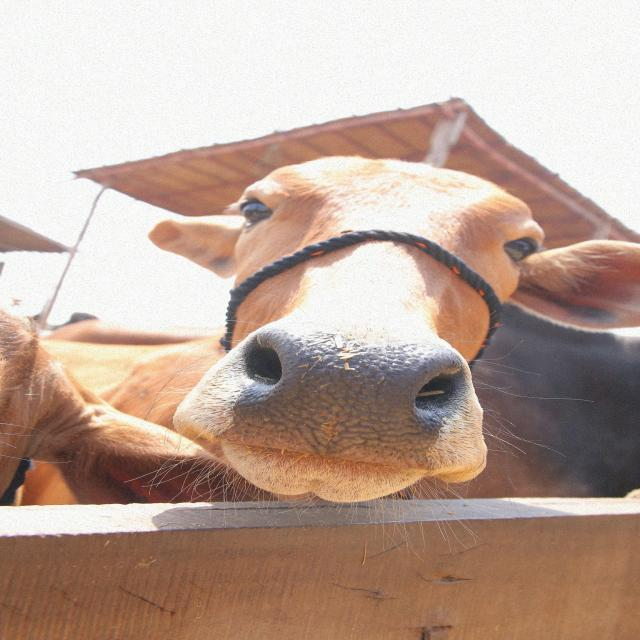muzzles: (225, 320, 476, 480)
